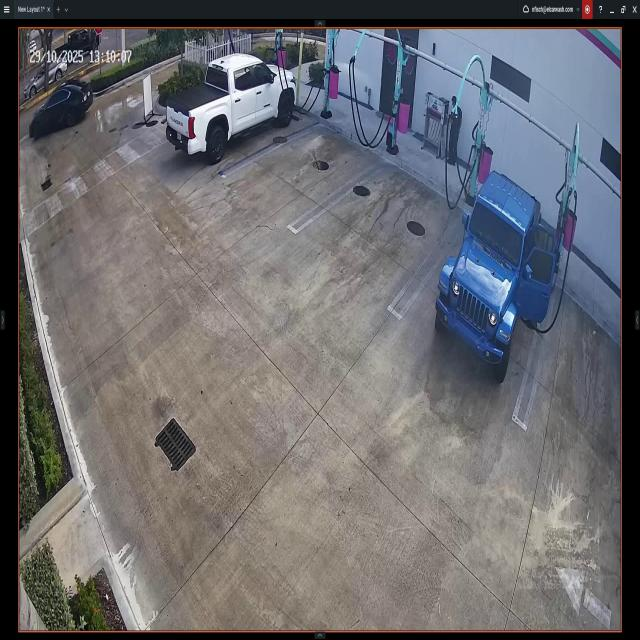Car: (439, 176, 554, 379), (165, 58, 296, 162), (27, 76, 93, 136)
